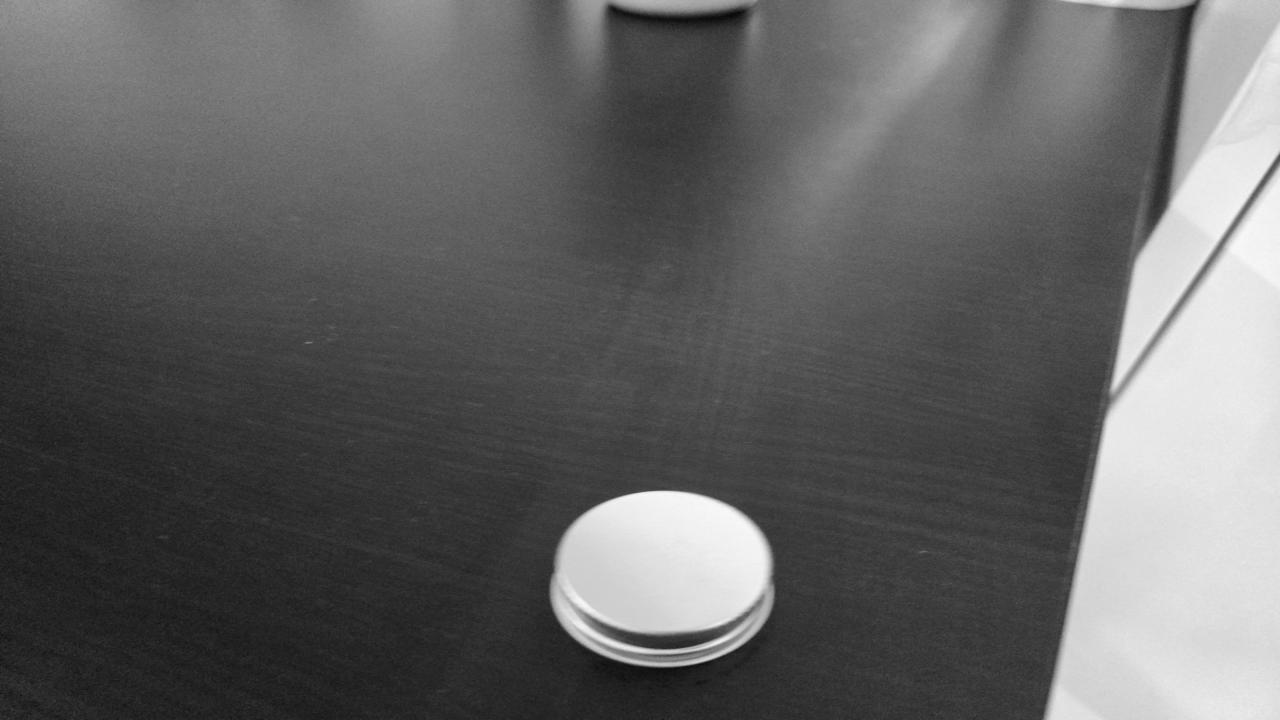bottle_cap: (557, 492, 773, 667)
